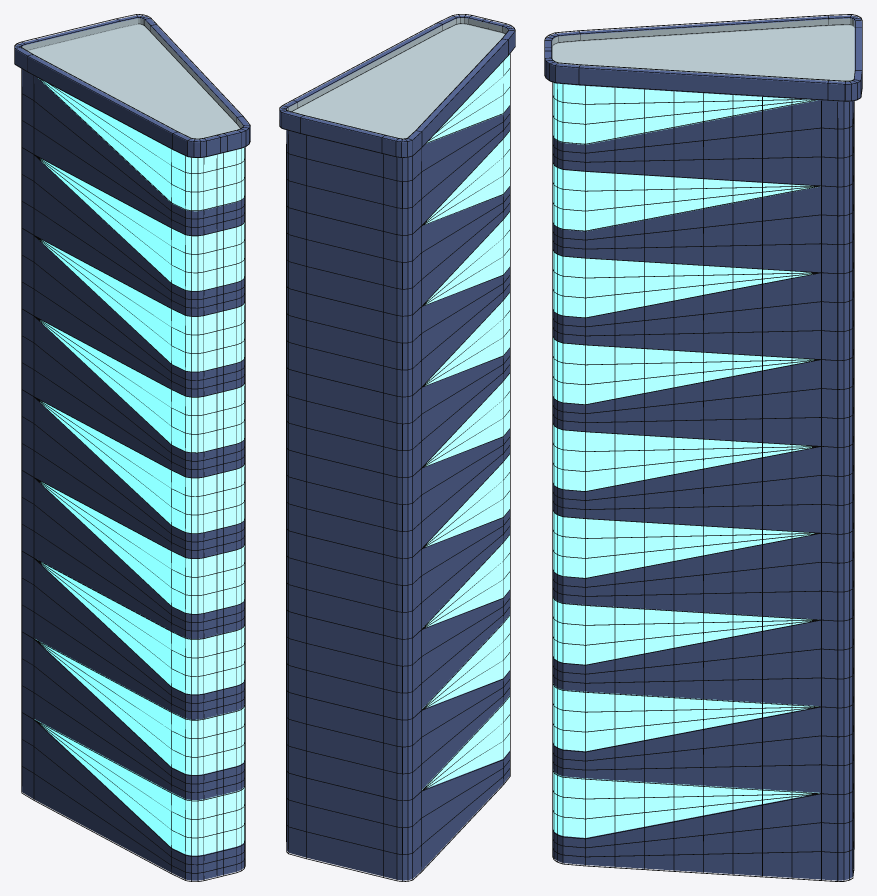
File: ModernBuildingTLU.fbx
3 renders of one model, left to right at view 1: azimuth 30°, elevation 25°; view 2: azimuth 150°, elevation 25°; view 3: azimuth 270°, elevation 25°, orthographic. The views are drawn at different scales.
Visible parts, largest first — view 1: build_modern_1; view 2: build_modern_1; view 3: build_modern_1.
Part boxes in pixels (x1,y1,x2,y2): build_modern_1: (14, 14, 250, 881); build_modern_1: (279, 14, 515, 881); build_modern_1: (544, 14, 862, 881).
Size of the model in its own units: 2059 by 10946 by 3949.
